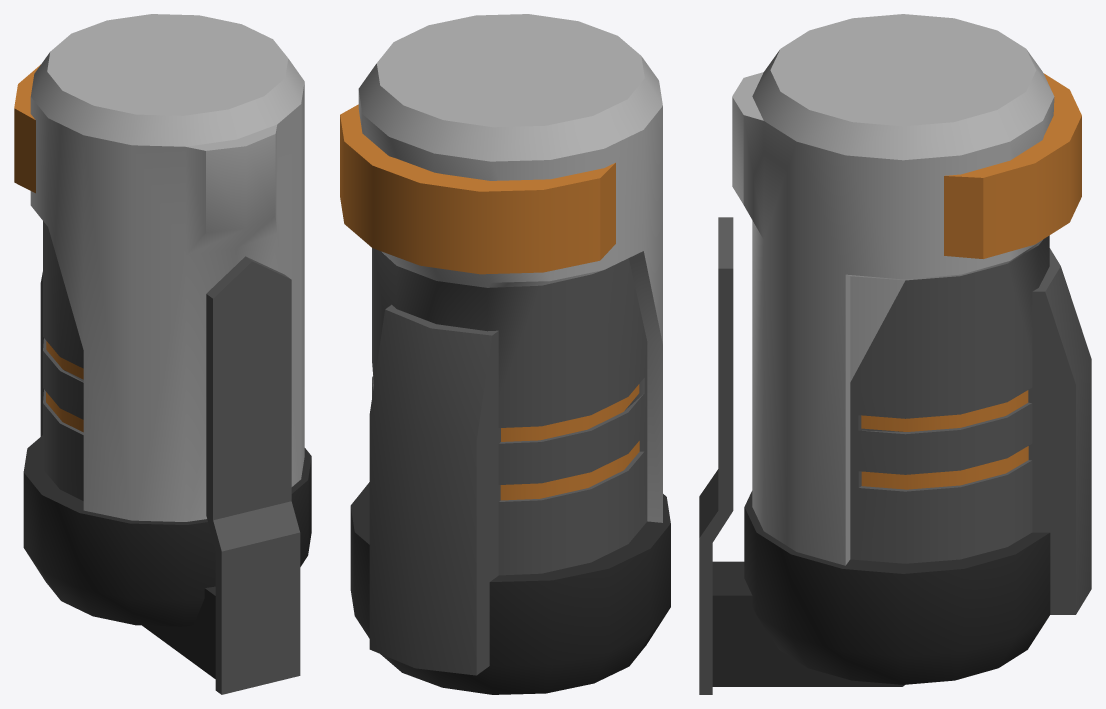
Rendered from qg-grenade-1-lod2.glb.
3 renders of one model, left to right at view 1: azimuth 30°, elevation 25°; view 2: azimuth 150°, elevation 25°; view 3: azimuth 270°, elevation 25°, orthographic. The views are drawn at different scales.
Visible parts, largest first — view 1: WeaponMesh_qg-grenade-1_Grenade; view 2: WeaponMesh_qg-grenade-1_Grenade; view 3: WeaponMesh_qg-grenade-1_Grenade.
Part boxes in pixels (left/top/right/bottom): WeaponMesh_qg-grenade-1_Grenade: left=14, top=14, right=311, bottom=694; WeaponMesh_qg-grenade-1_Grenade: left=340, top=14, right=670, bottom=694; WeaponMesh_qg-grenade-1_Grenade: left=699, top=14, right=1091, bottom=694.
Size of the model in its own units: 0.2003 by 0.42 by 0.2472.
